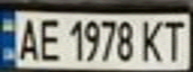1: (63, 16, 84, 61)
7: (100, 17, 118, 62)
8: (115, 17, 139, 63)
9: (81, 17, 103, 62)
A: (12, 14, 42, 62)
E: (33, 15, 63, 62)
K: (136, 16, 166, 63)
T: (157, 17, 190, 63)
